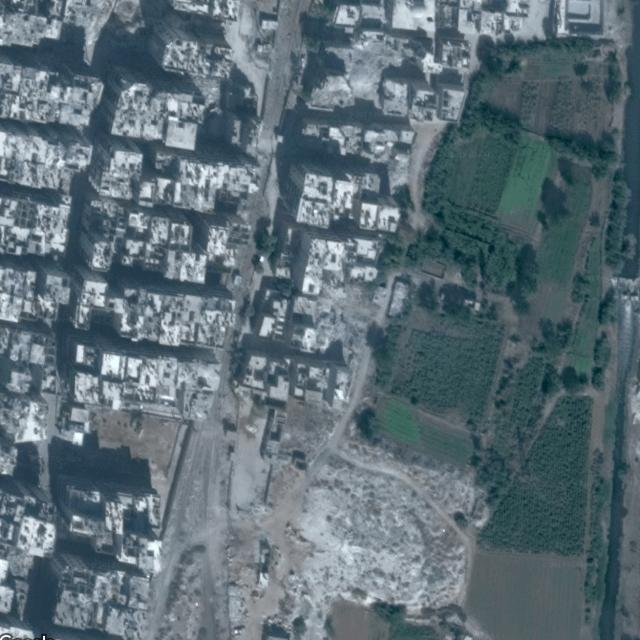damaged_building: (306, 29, 418, 111), (314, 276, 382, 364)
